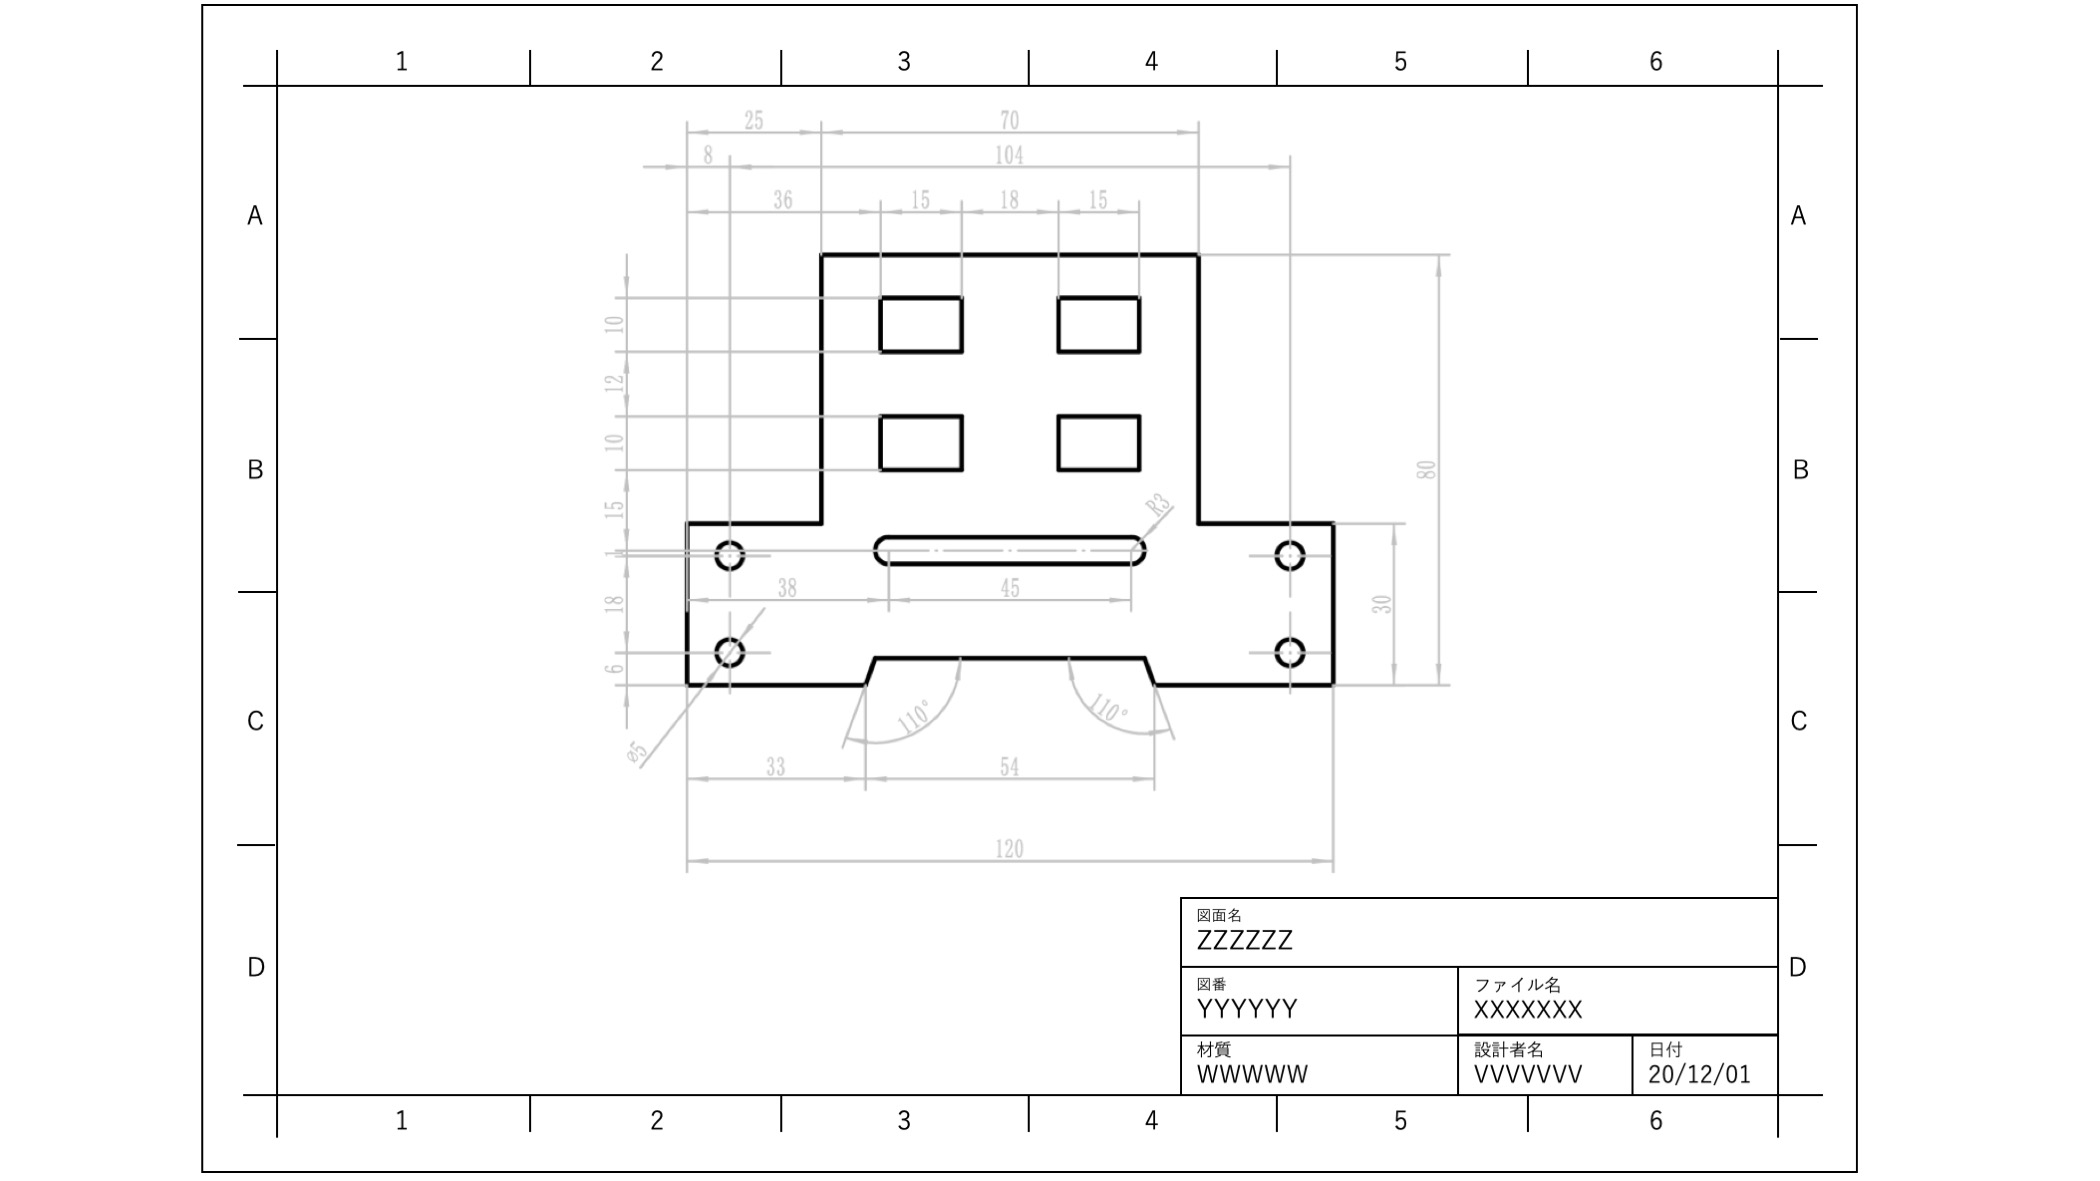circle: (705, 620, 754, 672), (1263, 531, 1312, 580), (710, 535, 759, 583), (1274, 629, 1312, 669)
rectangle: (1049, 394, 1150, 486), (1046, 278, 1150, 368), (865, 294, 988, 366), (865, 405, 974, 485)
round_rectangle: (861, 523, 1160, 574)
